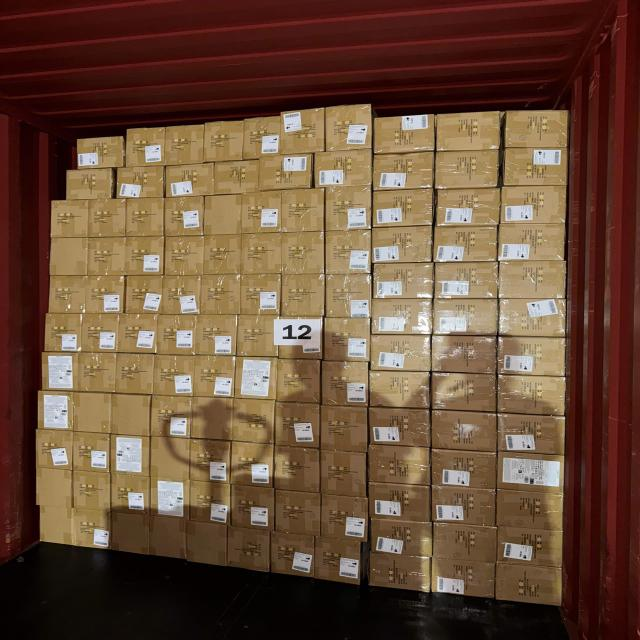Carton: (431, 524, 495, 592), (496, 413, 565, 455), (496, 564, 564, 606), (429, 409, 496, 451), (496, 377, 565, 417), (497, 300, 566, 339), (430, 370, 497, 410), (498, 221, 566, 260), (498, 185, 566, 224), (496, 455, 564, 494), (495, 488, 563, 527), (434, 558, 498, 599), (499, 338, 568, 376), (430, 336, 497, 375), (434, 188, 499, 228), (500, 262, 568, 300), (495, 529, 563, 567), (434, 151, 500, 190), (366, 448, 430, 488), (431, 300, 498, 338), (430, 452, 497, 490), (437, 113, 502, 152), (370, 189, 433, 229), (430, 486, 496, 524), (434, 262, 499, 300), (371, 153, 434, 192), (502, 150, 566, 188), (502, 112, 566, 150), (436, 224, 500, 262), (369, 554, 433, 592), (367, 407, 429, 446), (374, 115, 436, 154), (315, 538, 363, 588), (370, 263, 433, 301), (367, 369, 430, 407), (367, 484, 430, 522), (369, 334, 430, 372), (371, 522, 435, 558), (269, 533, 315, 583), (370, 225, 432, 262), (369, 298, 432, 334), (322, 452, 370, 499), (322, 493, 371, 539), (272, 446, 320, 492), (322, 359, 370, 405), (273, 489, 320, 535), (326, 186, 373, 232), (274, 402, 320, 449), (148, 433, 192, 482), (321, 406, 370, 450), (315, 153, 373, 190), (230, 485, 276, 531), (327, 106, 373, 152), (324, 319, 371, 364), (325, 230, 372, 275), (275, 319, 323, 362), (275, 360, 320, 405), (227, 526, 271, 572), (228, 444, 272, 489), (150, 474, 192, 521), (260, 154, 314, 190), (231, 400, 275, 444), (327, 275, 372, 318), (72, 390, 114, 436), (188, 522, 228, 570), (281, 189, 324, 233), (192, 397, 235, 441), (35, 388, 76, 434), (281, 274, 324, 317), (194, 355, 237, 398), (75, 135, 127, 170), (281, 234, 324, 276), (191, 481, 232, 525), (112, 515, 152, 560), (35, 465, 75, 510), (153, 354, 195, 396), (240, 192, 282, 234), (239, 274, 281, 316), (189, 440, 231, 482), (233, 356, 274, 399), (283, 111, 323, 155), (243, 234, 284, 276), (150, 396, 190, 439), (112, 395, 152, 438), (197, 315, 237, 357), (149, 520, 186, 565), (168, 124, 208, 165), (203, 122, 243, 163), (239, 317, 278, 359), (204, 194, 242, 237), (165, 164, 214, 197), (112, 434, 152, 474), (201, 274, 240, 315), (157, 314, 196, 355), (76, 351, 115, 392), (117, 352, 155, 394), (72, 512, 110, 554), (38, 503, 75, 546), (163, 197, 203, 236), (164, 236, 204, 275), (73, 432, 112, 472), (72, 472, 111, 512), (246, 117, 284, 158), (214, 162, 258, 197), (117, 166, 165, 198), (67, 168, 115, 200), (125, 237, 164, 276), (50, 200, 89, 239), (165, 276, 204, 315), (86, 238, 124, 278), (124, 274, 162, 314), (120, 316, 158, 356), (79, 314, 117, 354), (112, 476, 152, 514), (50, 237, 88, 276), (85, 275, 123, 314), (204, 236, 241, 276), (38, 428, 75, 468), (126, 199, 164, 237), (126, 129, 164, 167), (47, 315, 83, 355), (51, 275, 88, 313), (87, 200, 124, 238), (45, 351, 79, 391)
